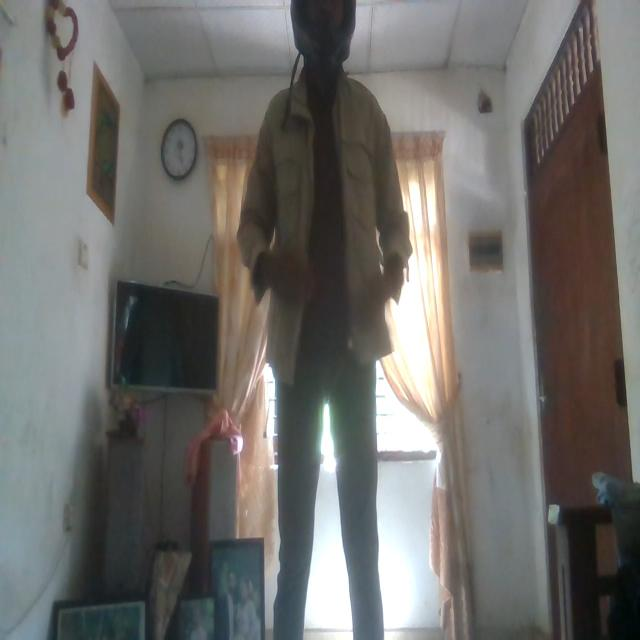Helmet_Wearer: (282, 0, 357, 60)
Jacket_Wearer: (241, 66, 407, 369)
Person: (233, 2, 411, 640)
